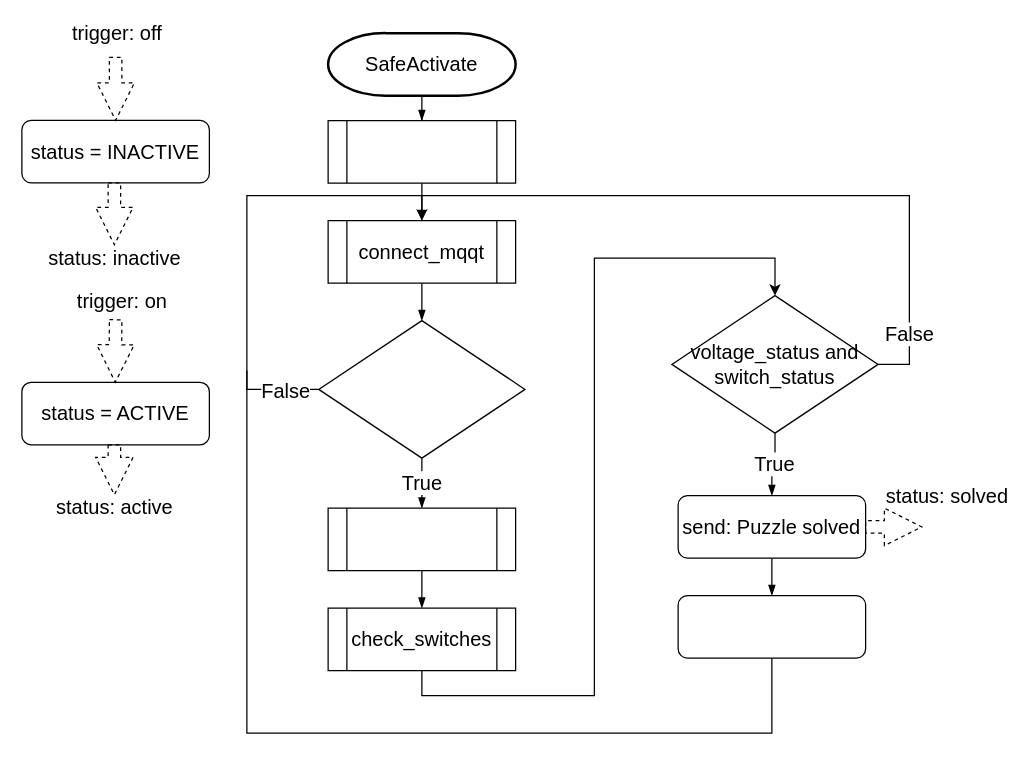
Image size: 1030x758. Some labels were removed from this diagram. The box of each missing label's shape, as (x1, y1, x2, y2) in pixels:
check_voltage: (327, 507, 516, 571)
setup: (327, 119, 516, 183)
status = SOLVED: (677, 594, 866, 658)
status == ACTIVE: (318, 319, 525, 458)
